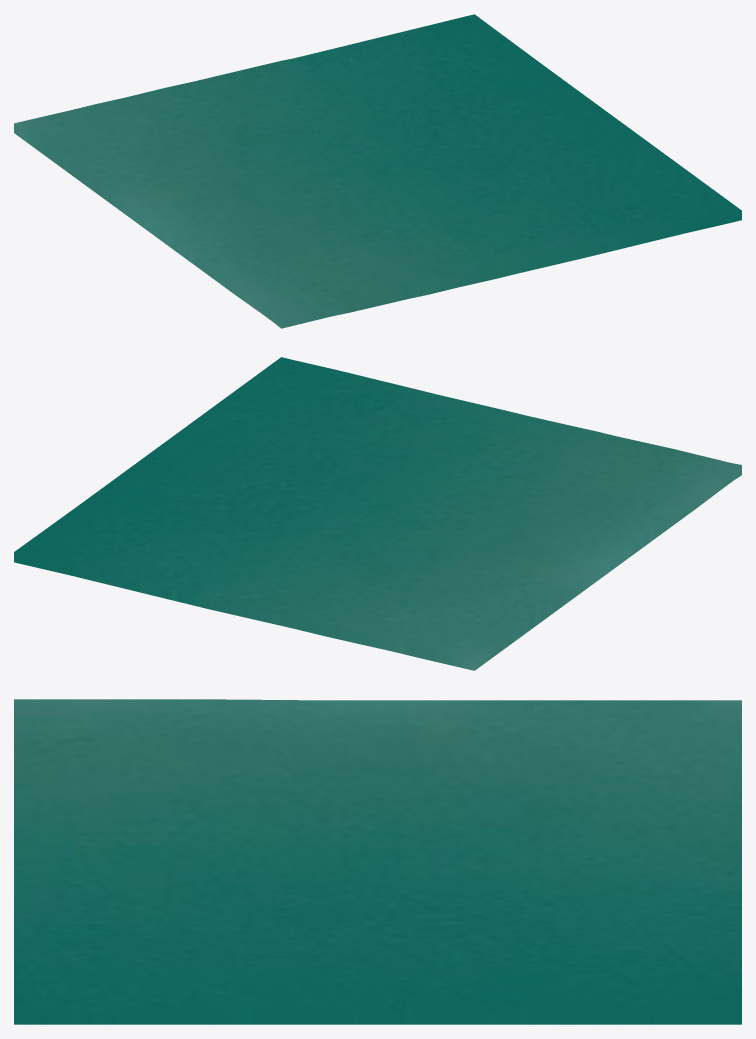
File: z20-167558-405169-h0-yup-uvflip-v3-world.glb
3 renders of one model, top to bottom at view 1: azimuth 30°, elevation 25°; view 2: azimuth 150°, elevation 25°; view 3: azimuth 270°, elevation 25°, orthographic. The views are drawn at different scales.
Bounding box in the file's own units: 30.16 × 0.88 × 30.32.
1 material, 1 textured.
